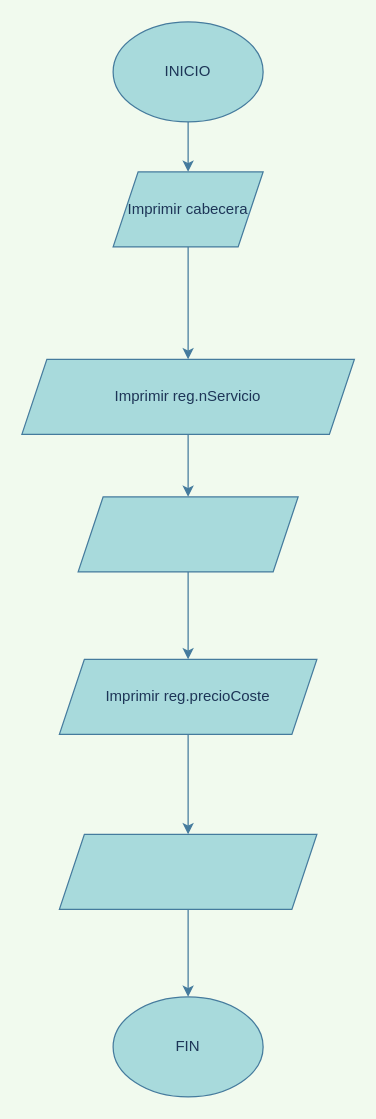
Image size: 376x1119. Some labels were removed from this diagram. Each missing label, with the centre of its shape:
"Imprimir reg.denominacion" belongs at (187,534).
"Imprimir reg.pvp" belongs at (187,871).
